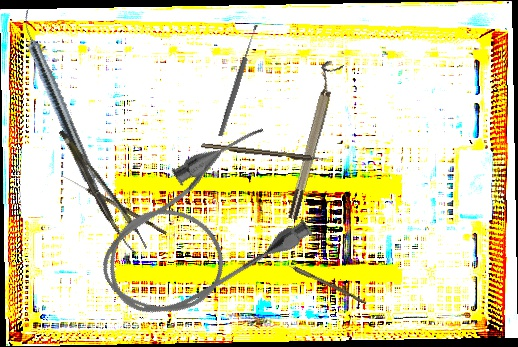Cannula: (74, 115, 327, 344)
Fixation Ring: (279, 59, 344, 221)
Handpiece: (12, 8, 107, 198)
Hook Surgical: (201, 142, 331, 164)
Surgical Spoon: (59, 173, 169, 235), (268, 254, 368, 305), (217, 23, 260, 138)
Tissue Forceps: (58, 120, 148, 260)
